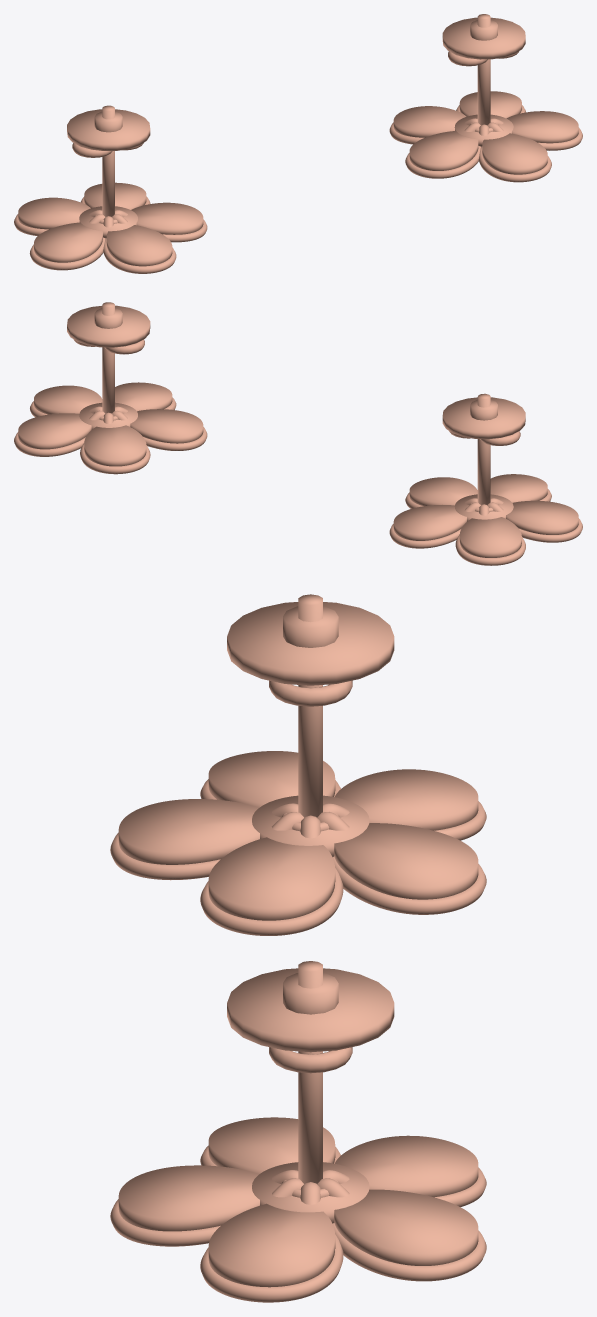
The model's file is Earring_Blossom.fbx.
3 renders of one model, top to bottom at view 1: azimuth 30°, elevation 25°; view 2: azimuth 150°, elevation 25°; view 3: azimuth 270°, elevation 25°, orthographic. The views are drawn at different scales.
Visible parts, largest first — view 1: Halo_Petals.001, Halo_Petals, Attach_Back, Attach_Back.001, Attach_Post, Attach_Post.001, Head_Center.001, Head_Center; view 2: Halo_Petals.001, Halo_Petals, Attach_Back, Attach_Back.001, Attach_Post.001, Attach_Post, Head_Center, Head_Center.001; view 3: Halo_Petals, Halo_Petals.001, Attach_Back.001, Attach_Back, Attach_Post, Attach_Post.001, Head_Center.001, Head_Center.
Boxes of the visible parts, x1,y1,x2,y2 form: Halo_Petals.001: [14, 182, 207, 273]; Halo_Petals: [389, 91, 582, 182]; Attach_Back: [442, 17, 525, 66]; Attach_Back.001: [67, 109, 150, 157]; Attach_Post: [477, 14, 490, 125]; Attach_Post.001: [102, 105, 114, 216]; Head_Center.001: [89, 210, 127, 227]; Head_Center: [464, 118, 503, 135]; Halo_Petals.001: [389, 474, 582, 565]; Halo_Petals: [14, 382, 207, 474]; Attach_Back: [67, 305, 150, 354]; Attach_Back.001: [442, 397, 525, 445]; Attach_Post.001: [477, 393, 490, 505]; Attach_Post: [102, 302, 114, 413]; Head_Center: [89, 406, 127, 423]; Head_Center.001: [465, 498, 503, 515]; Halo_Petals: [110, 1117, 486, 1302]; Halo_Petals.001: [110, 751, 486, 935]; Attach_Back.001: [227, 602, 394, 706]; Attach_Back: [227, 968, 394, 1073]; Attach_Post: [298, 961, 322, 1183]; Attach_Post.001: [298, 594, 322, 817]; Head_Center.001: [272, 803, 349, 838]; Head_Center: [272, 1170, 349, 1204].
Size of the model in its own units: 0.0405 by 0.00969 by 0.0122.
